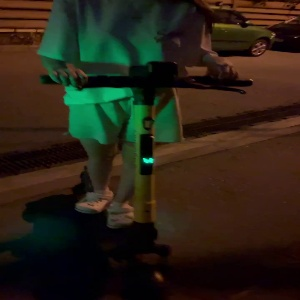human on a scooter: (33, 1, 253, 300)
